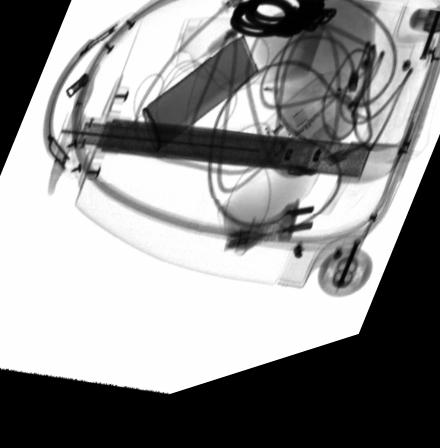HandCuffs: (227, 2, 341, 60)
